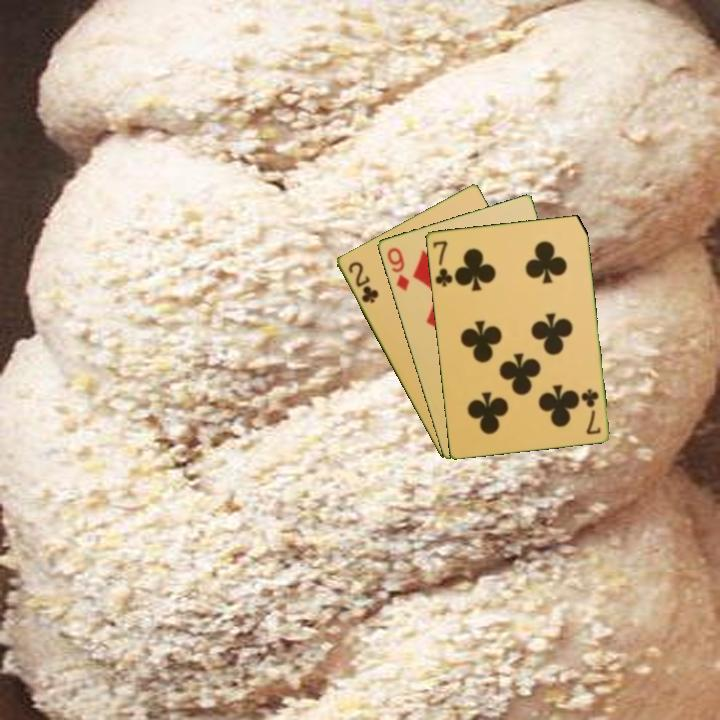2c: (344, 258, 381, 306)
7c: (429, 237, 455, 289), (578, 385, 603, 437)
9d: (383, 244, 412, 294)
